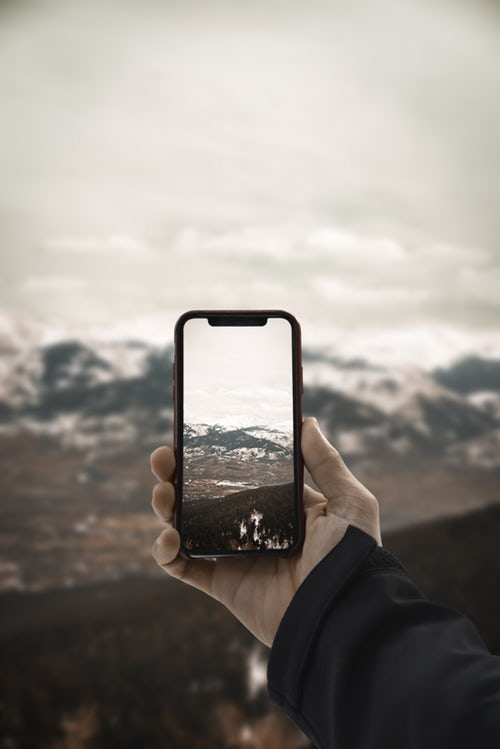phone: (169, 305, 313, 571)
